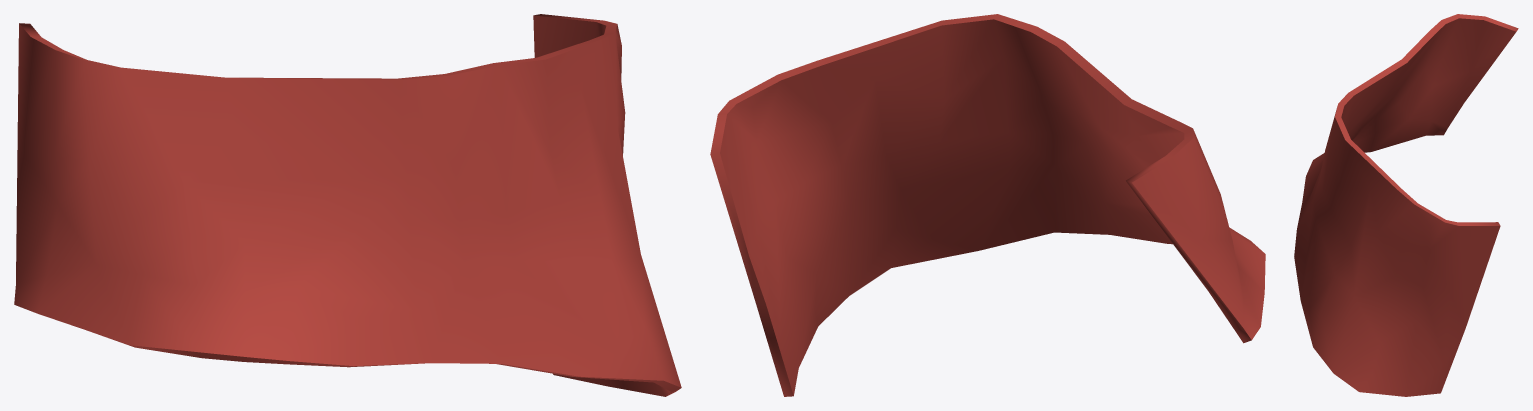
Rendered from musculos-flexor-retinaculum-of-wrist-r.glb.
3 views of the same model, side by side, from view 1: azimuth 30°, elevation 25°; view 2: azimuth 150°, elevation 25°; view 3: azimuth 270°, elevation 25° (orthographic). The views are drawn at different scales.
Parts seen in each view (by area): view 1: Flexor retinaculum of wrist.r; view 2: Flexor retinaculum of wrist.r; view 3: Flexor retinaculum of wrist.r.
Part boxes in pixels (x1,y1,x2,y2): Flexor retinaculum of wrist.r: (14,14,681,396); Flexor retinaculum of wrist.r: (710,14,1265,396); Flexor retinaculum of wrist.r: (1294,14,1518,396).
Size of the model in its own units: 0.0604 by 0.0411 by 0.0343.
